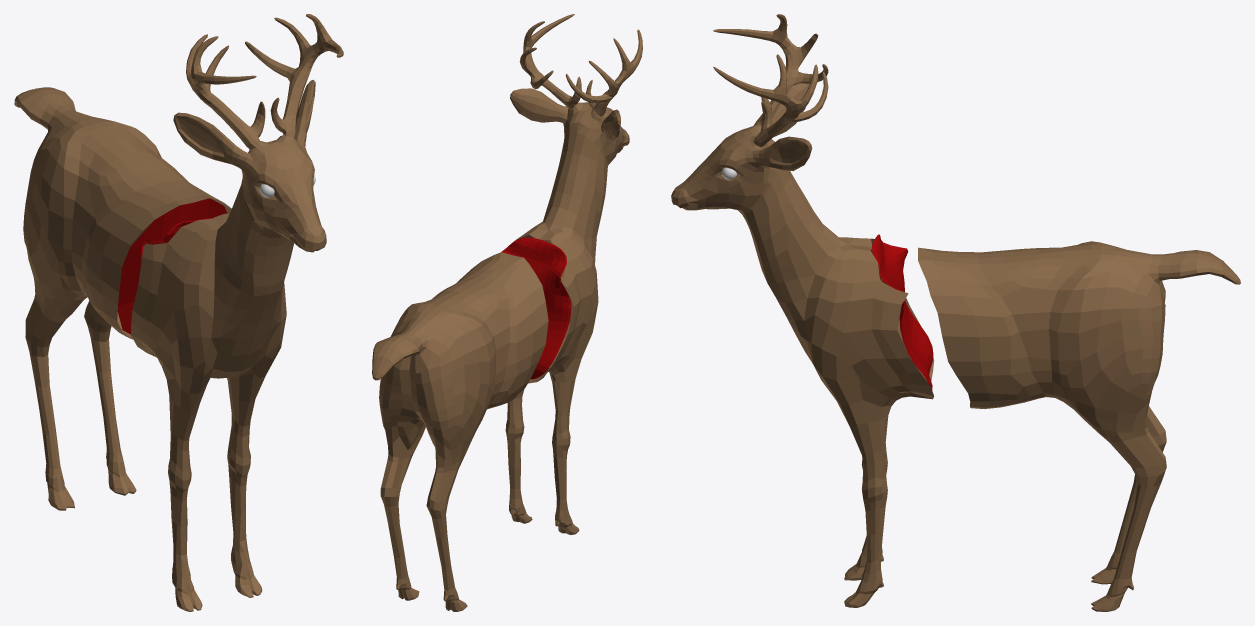
File: Dådyr_Sliced.fbx
3 views of the same model, side by side, from view 1: azimuth 30°, elevation 25°; view 2: azimuth 150°, elevation 25°; view 3: azimuth 270°, elevation 25° (orthographic). The views are drawn at different scales.
Parts seen in each view (by area): view 1: Deer-lowP_Front, Deer-lowP_Rear, Deer_Rear_Inside; view 2: Deer-lowP_Rear, Deer-lowP_Front, Deear_Front_Inside; view 3: Deer-lowP_Rear, Deer-lowP_Front, Deear_Front_Inside.
Boxes of the visible parts, bbox=[...] form: Deer-lowP_Front: bbox=[131, 14, 343, 611]; Deer-lowP_Rear: bbox=[14, 87, 231, 510]; Deer_Rear_Inside: bbox=[117, 198, 227, 334]; Deer-lowP_Rear: bbox=[372, 252, 548, 611]; Deer-lowP_Front: bbox=[501, 14, 642, 534]; Deear_Front_Inside: bbox=[502, 237, 571, 379]; Deer-lowP_Rear: bbox=[918, 241, 1240, 611]; Deer-lowP_Front: bbox=[671, 14, 934, 607]; Deear_Front_Inside: bbox=[872, 234, 933, 390].
Size of the model in its own units: 182 by 748 by 693.
